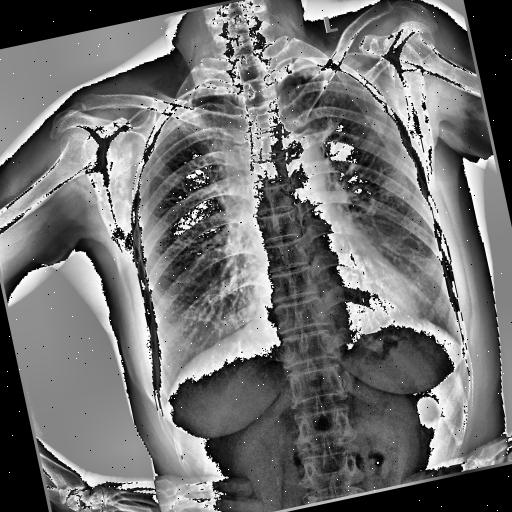0- Aortic enlargement: (268, 126, 330, 194), (276, 126, 330, 188)
11- Pleural thickening: (271, 49, 338, 87), (296, 58, 338, 80), (298, 59, 336, 79)
13- Pulmonary fibrosis: (365, 108, 389, 136), (364, 114, 386, 136)
3- Cardiomegaly: (247, 268, 427, 350)
9- Other lesion: (364, 114, 386, 136)
